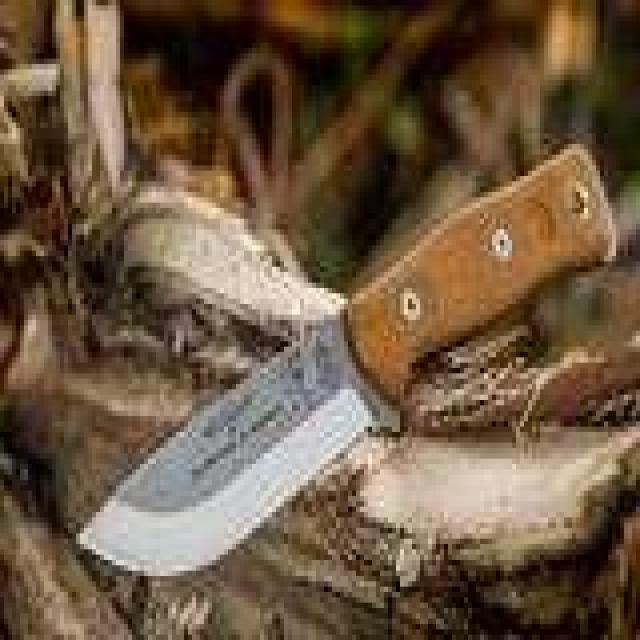knife: (68, 128, 640, 584)
